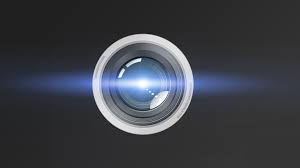flash: (91, 59, 202, 112)
